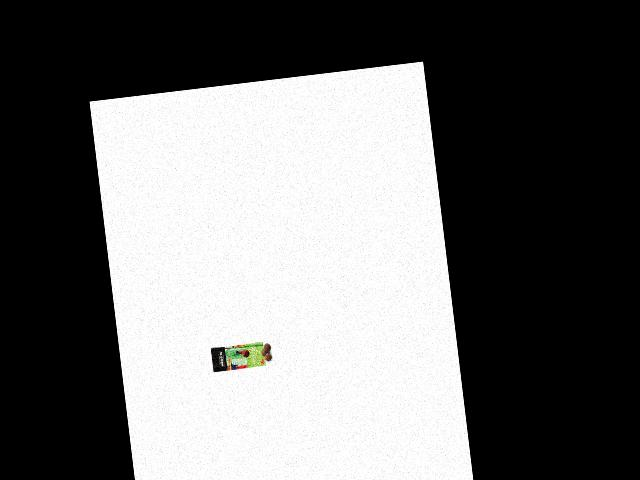chocolate: (207, 335, 267, 376)
